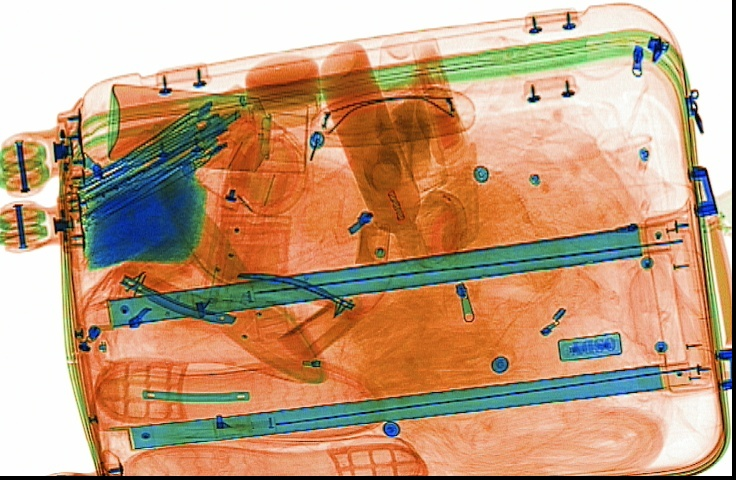pressure: (104, 81, 311, 174)
